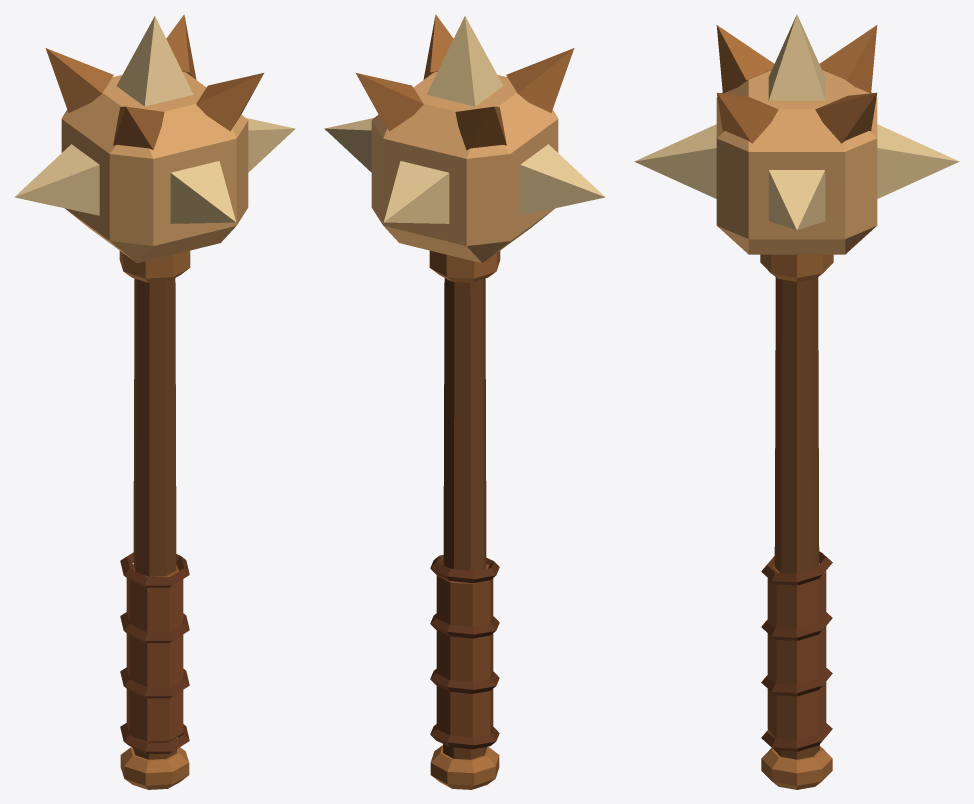
File: WoodMace.fbx
3 renders of one model, left to right at view 1: azimuth 30°, elevation 25°; view 2: azimuth 150°, elevation 25°; view 3: azimuth 270°, elevation 25°, orthographic.
Parts seen in each view (by area): view 1: WoodMace; view 2: WoodMace; view 3: WoodMace.
Part boxes in pixels (x1,y1,x2,y2): WoodMace: [14, 14, 295, 789]; WoodMace: [324, 14, 605, 789]; WoodMace: [634, 14, 959, 789].
Size of the model in its own units: 1.42 by 3.68 by 1.42.
Materials: 1 (1 with a texture image).
